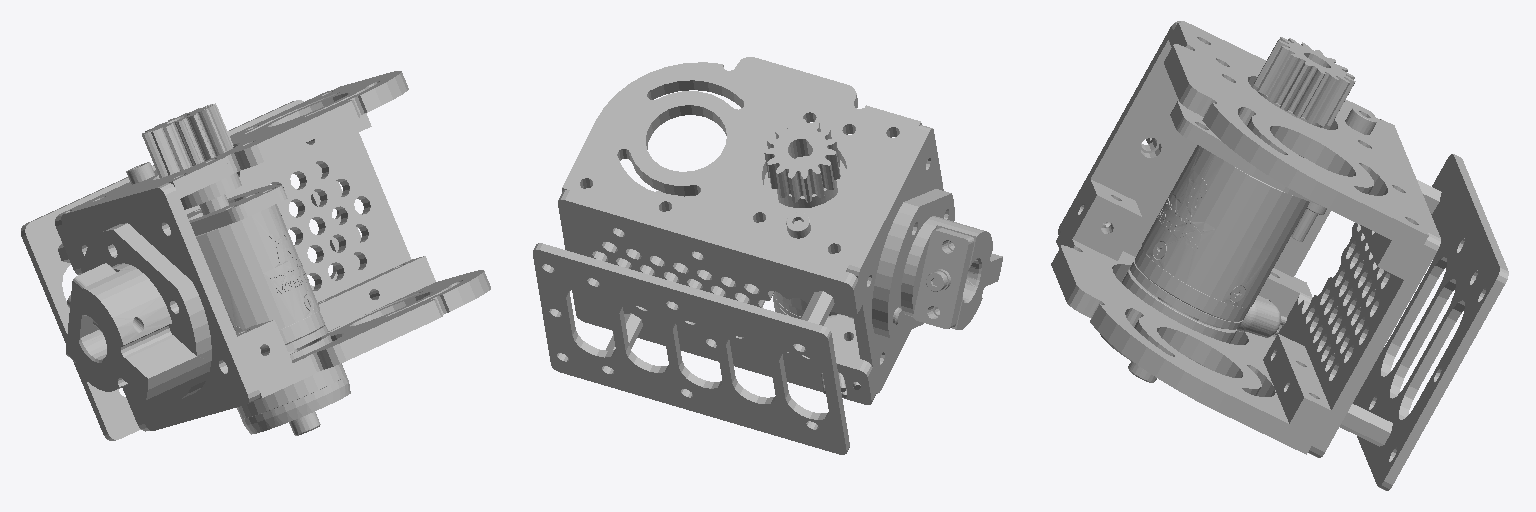
robot.urdf — robotarm:
<?xml version="1.0" encoding="utf-8"?>
<!-- This URDF was automatically created by SolidWorks to URDF Exporter! Originally created by [author] ([email redacted]) 
     Commit Version: 1.6.0-4-g7f85cfe  Build Version: 1.6.7995.38578
     For more information, please see http://wiki.ros.org/sw_urdf_exporter -->
<robot
  name="robotarm">
  <link
    name="base_link">
    <inertial>
      <origin
        xyz="-0.44885 -0.031468 0.020095"
        rpy="0 0 0" />
      <mass
        value="0.43913" />
      <inertia
        ixx="0.00028537"
        ixy="-6.2493E-06"
        ixz="1.1646E-05"
        iyy="0.00050787"
        iyz="3.1883E-06"
        izz="0.0003056" />
    </inertial>
    <visual>
      <origin
        xyz="0 0 0"
        rpy="0 0 0" />
      <geometry>
        <mesh
          filename="package://robotarm/meshes/base_link.STL" />
      </geometry>
      <material
        name="">
        <color
          rgba="0.75294 0.75294 0.75294 1" />
      </material>
    </visual>
    <collision>
      <origin
        xyz="0 0 0"
        rpy="0 0 0" />
      <geometry>
        <mesh
          filename="package://robotarm/meshes/base_link.STL" />
      </geometry>
    </collision>
  </link>
  <link
    name="Link1">
    <inertial>
      <origin
        xyz="0.174903558132168 0.0127953235815859 3.77539394404922E-05"
        rpy="0 0 0" />
      <mass
        value="0.399881944142829" />
      <inertia
        ixx="0.000212004512732515"
        ixy="2.64405262860729E-06"
        ixz="-1.22429735416305E-06"
        iyy="0.00052890667494568"
        iyz="-2.3972592950039E-08"
        izz="0.000341077742590487" />
    </inertial>
    <visual>
      <origin
        xyz="0 0 0"
        rpy="0 0 0" />
      <geometry>
        <mesh
          filename="package://robotarm/meshes/Link1.STL" />
      </geometry>
      <material
        name="">
        <color
          rgba="0.752941176470588 0.752941176470588 0.752941176470588 1" />
      </material>
    </visual>
    <collision>
      <origin
        xyz="0 0 0"
        rpy="0 0 0" />
      <geometry>
        <mesh
          filename="package://robotarm/meshes/Link1.STL" />
      </geometry>
    </collision>
  </link>
  <joint
    name="Joint1"
    type="revolute">
    <origin
      xyz="-0.42957 -0.013658 0.0035"
      rpy="1.5708 0 0.063569" />
    <parent
      link="base_link" />
    <child
      link="Link1" />
    <axis
      xyz="0 1 0" />
    <limit
      lower="-3.14"
      upper="3.14"
      effort="100"
      velocity="1.000001" />
  </joint>
  <link
    name="Link2">
    <inertial>
      <origin
        xyz="0.0927671649061341 0.0256233905088682 -0.000112186558306843"
        rpy="0 0 0" />
      <mass
        value="0.278294856213067" />
      <inertia
        ixx="4.37507425493074E-05"
        ixy="1.36401246726329E-05"
        ixz="-2.38226180714376E-08"
        iyy="0.000521357758643799"
        iyz="-7.44989305207408E-08"
        izz="0.000499724802492056" />
    </inertial>
    <visual>
      <origin
        xyz="0 0 0"
        rpy="0 0 0" />
      <geometry>
        <mesh
          filename="package://robotarm/meshes/Link2.STL" />
      </geometry>
      <material
        name="">
        <color
          rgba="0.752941176470588 0.752941176470588 0.752941176470588 1" />
      </material>
    </visual>
    <collision>
      <origin
        xyz="0 0 0"
        rpy="0 0 0" />
      <geometry>
        <mesh
          filename="package://robotarm/meshes/Link2.STL" />
      </geometry>
    </collision>
  </link>
  <joint
    name="Joint2"
    type="revolute">
    <origin
      xyz="0.215 0.0406 0"
      rpy="0 -0.063569 0" />
    <parent
      link="Link1" />
    <child
      link="Link2" />
    <axis
      xyz="0 1 0" />
    <limit
      lower="-3.14"
      upper="3.14"
      effort="100"
      velocity="1.000001" />
  </joint>
  <link
    name="Link3">
    <inertial>
      <origin
        xyz="0.0030164 0.051612 -0.029799"
        rpy="0 0 0" />
      <mass
        value="0.15151" />
      <inertia
        ixx="4.8691E-05"
        ixy="-4.1513E-07"
        ixz="3.9127E-08"
        iyy="3.1936E-05"
        iyz="7.295E-07"
        izz="4.1705E-05" />
    </inertial>
    <visual>
      <origin
        xyz="0 0 0"
        rpy="0 0 0" />
      <geometry>
        <mesh
          filename="package://robotarm/meshes/Link3.STL" />
      </geometry>
      <material
        name="">
        <color
          rgba="0.75294 0.75294 0.75294 1" />
      </material>
    </visual>
    <collision>
      <origin
        xyz="0 0 0"
        rpy="0 0 0" />
      <geometry>
        <mesh
          filename="package://robotarm/meshes/Link3.STL" />
      </geometry>
    </collision>
  </link>
  <joint
    name="Joint3"
    type="revolute">
    <origin
      xyz="0.24227 0.022 -0.0035135"
      rpy="-3.1416 1.4427 3.1416" />
    <parent
      link="Link2" />
    <child
      link="Link3" />
    <axis
      xyz="0 1 0" />
    <limit
      lower="-3.14"
      upper="3.14"
      effort="100"
      velocity="1.000001" />
  </joint>
  <link
    name="Link4">
    <inertial>
      <origin
        xyz="0.0619731234739865 -0.000170332749585694 0.0171807408839547"
        rpy="0 0 0" />
      <mass
        value="0.150587620027148" />
      <inertia
        ixx="3.55257270461945E-05"
        ixy="1.00305340896913E-07"
        ixz="2.61703217576201E-07"
        iyy="5.71772281319592E-05"
        iyz="2.59687535060456E-08"
        izz="6.42827276279683E-05" />
    </inertial>
    <visual>
      <origin
        xyz="0 0 0"
        rpy="0 0 0" />
      <geometry>
        <mesh
          filename="package://robotarm/meshes/Link4.STL" />
      </geometry>
      <material
        name="">
        <color
          rgba="0.752941176470588 0.752941176470588 0.752941176470588 1" />
      </material>
    </visual>
    <collision>
      <origin
        xyz="0 0 0"
        rpy="0 0 0" />
      <geometry>
        <mesh
          filename="package://robotarm/meshes/Link4.STL" />
      </geometry>
    </collision>
  </link>
  <joint
    name="Joint4"
    type="revolute">
    <origin
      xyz="0.05 0.068 -0.0275"
      rpy="-1.5708 -1.4553 1.5708" />
    <parent
      link="Link3" />
    <child
      link="Link4" />
    <axis
      xyz="0 0 1" />
    <limit
      lower="-3.14"
      upper="3.14"
      effort="100"
      velocity="1.000001" />
  </joint>
  <link
    name="Link5">
    <inertial>
      <origin
        xyz="0.00481508470307287 0.0418971057782562 0.00488514133957034"
        rpy="0 0 0" />
      <mass
        value="0.0673353257372762" />
      <inertia
        ixx="2.10017763453441E-05"
        ixy="-4.79489297506708E-07"
        ixz="-2.77195563360543E-07"
        iyy="1.22519429744675E-05"
        iyz="-3.88832468643565E-07"
        izz="2.11630755571954E-05" />
    </inertial>
    <visual>
      <origin
        xyz="0 0 0"
        rpy="0 0 0" />
      <geometry>
        <mesh
          filename="package://robotarm/meshes/Link5.STL" />
      </geometry>
      <material
        name="">
        <color
          rgba="0.752941176470588 0.752941176470588 0.752941176470588 1" />
      </material>
    </visual>
    <collision>
      <origin
        xyz="0 0 0"
        rpy="0 0 0" />
      <geometry>
        <mesh
          filename="package://robotarm/meshes/Link5.STL" />
      </geometry>
    </collision>
  </link>
  <joint
    name="Joint5"
    type="revolute">
    <origin
      xyz="0.1123 0.00043137 0.025"
      rpy="3.1416 1.3014 1.5746" />
    <parent
      link="Link4" />
    <child
      link="Link5" />
    <axis
      xyz="0 1 0" />
    <limit
      lower="-3.14"
      upper="3.14"
      effort="100"
      velocity="1.000001" />
  </joint>
  <link
    name="Link6">
    <inertial>
      <origin
        xyz="-0.000190141846478017 -0.0185554749284611 0.030435860326339"
        rpy="0 0 0" />
      <mass
        value="0.0720452820854239" />
      <inertia
        ixx="1.5107054520566E-05"
        ixy="9.6900986776234E-08"
        ixz="5.82478332306809E-08"
        iyy="2.45859725619999E-05"
        iyz="-6.82298490720298E-08"
        izz="1.35110350403386E-05" />
    </inertial>
    <visual>
      <origin
        xyz="0 0 0"
        rpy="0 0 0" />
      <geometry>
        <mesh
          filename="package://robotarm/meshes/Link6.STL" />
      </geometry>
      <material
        name="">
        <color
          rgba="0.752941176470588 0.752941176470588 0.752941176470588 1" />
      </material>
    </visual>
    <collision>
      <origin
        xyz="0 0 0"
        rpy="0 0 0" />
      <geometry>
        <mesh
          filename="package://robotarm/meshes/Link6.STL" />
      </geometry>
    </collision>
  </link>
  <joint
    name="Joint6"
    type="revolute">
    <origin
      xyz="0.021567 0.07 -0.021567"
      rpy="0.6505 0.47657 -2.1133" />
    <parent
      link="Link5" />
    <child
      link="Link6" />
    <axis
      xyz="0 0 -1" />
    <limit
      lower="-3.14"
      upper="3.14"
      effort="100"
      velocity="1.00001" />
  </joint>
</robot>

--- Facts derived from the render (not from the file) ---
Views: 3 orthographic renders of the robot side by side, from view 1: azimuth 30°, elevation 25°; view 2: azimuth 150°, elevation 25°; view 3: azimuth 270°, elevation 25°.
Robot: robotarm — 7 links, 6 joints (6 revolute); root link base_link; default pose: all joints at 0.
Visible links, largest first — view 1: Link5; view 2: Link5; view 3: Link5.
Link boxes in pixels (box(x1,y1,x2,y2)): Link5: box(21, 71, 490, 440); Link5: box(533, 57, 1002, 454); Link5: box(1051, 21, 1508, 490).
Bounding box of the posed robot: 0.0964 × 0.0882 × 0.0809 m (x, y, z).
1 mesh visuals loaded from 7 distinct referenced files (1 binary STL); not drawn: 6 (reference not matched to a file when rendering).